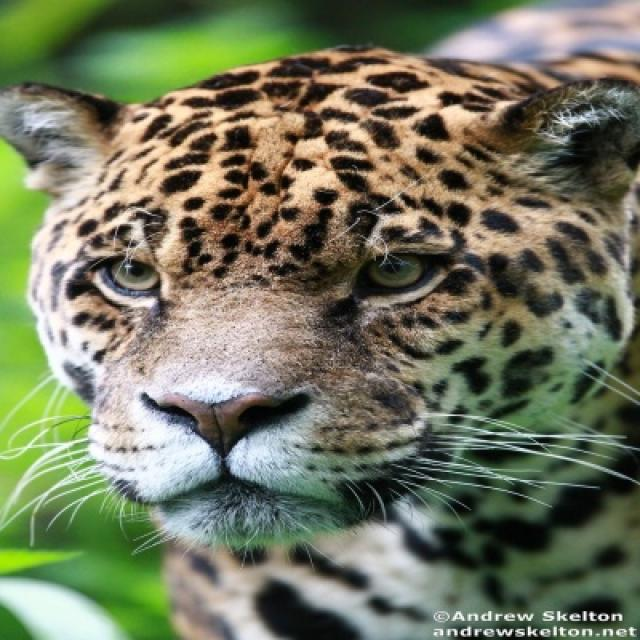Jaguar: (0, 45, 638, 638)
